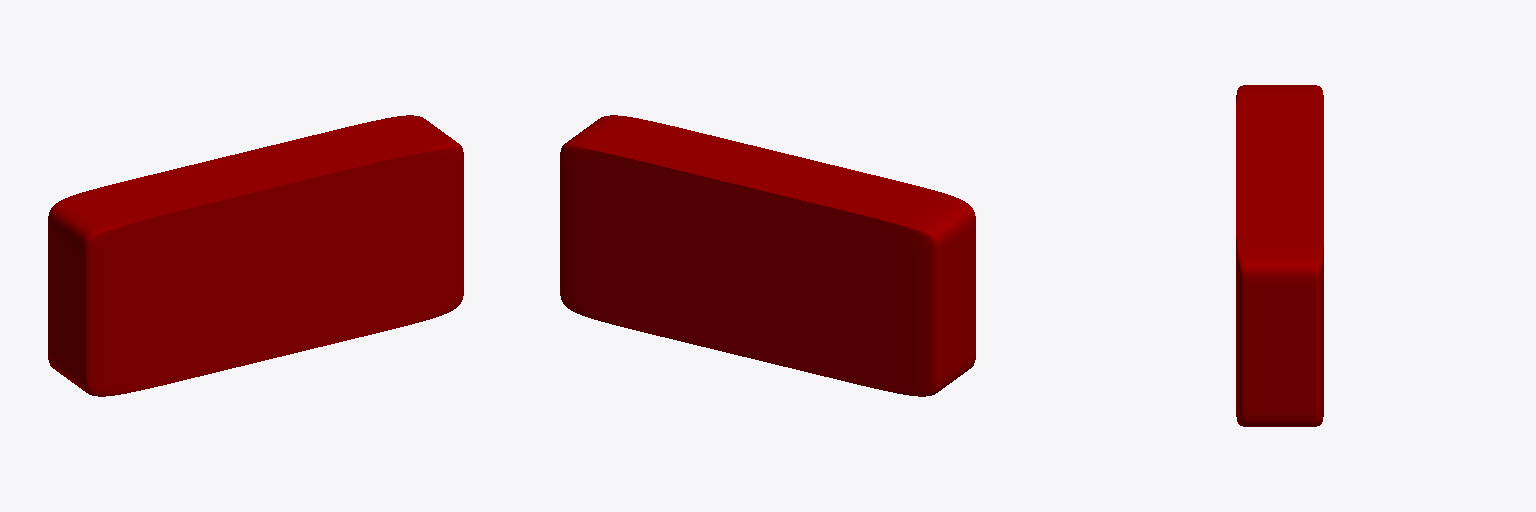
Rendered from raket_red.obj.
3 renders of one model, left to right at view 1: azimuth 30°, elevation 25°; view 2: azimuth 150°, elevation 25°; view 3: azimuth 270°, elevation 25°, orthographic.
Parts seen in each view (by area): view 1: Cube; view 2: Cube; view 3: Cube.
Part boxes in pixels (left/top/right/bottom): Cube: left=48, top=115, right=463, bottom=396; Cube: left=560, top=115, right=975, bottom=396; Cube: left=1236, top=85, right=1323, bottom=426.
Bounding box in the file's own units: 1.75 × 0.75 × 0.35.